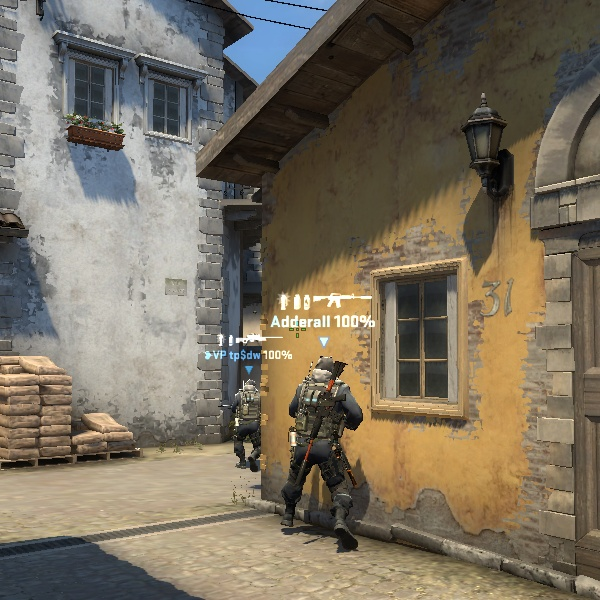ct_body: (219, 375, 272, 471)
